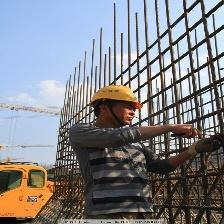helmet: (91, 84, 145, 105)
no-vest: (70, 125, 162, 215)
person: (68, 83, 170, 221)
